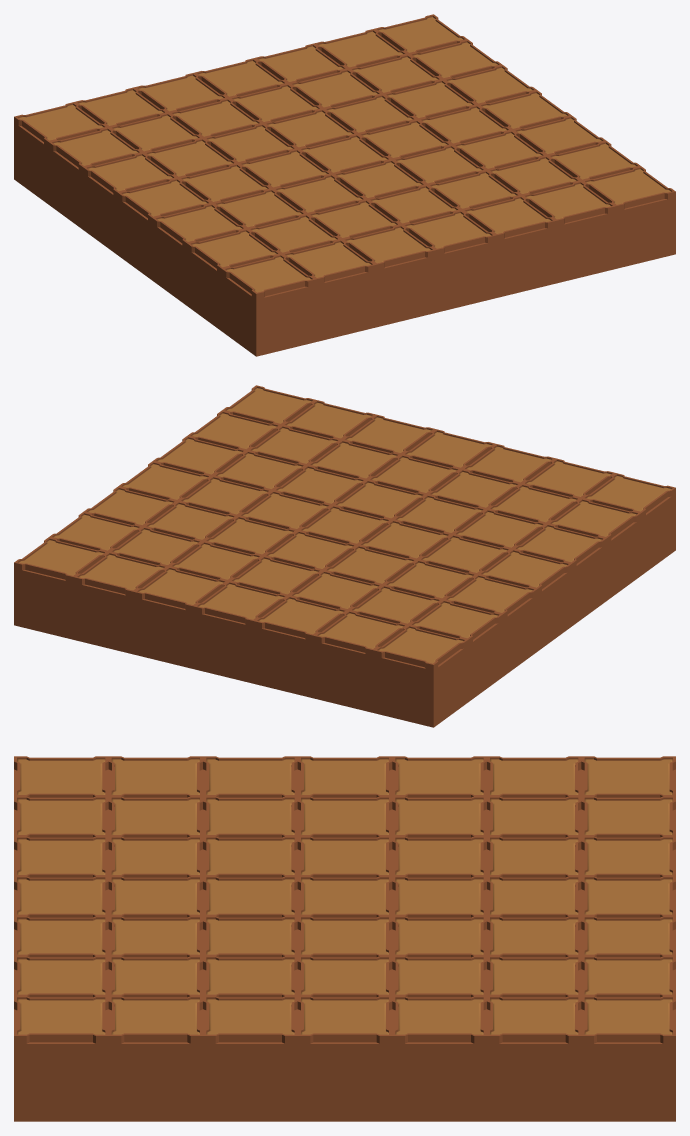
The model's file is board.fbx.
3 renders of one model, top to bottom at view 1: azimuth 30°, elevation 25°; view 2: azimuth 150°, elevation 25°; view 3: azimuth 270°, elevation 25°, orthographic. The views are drawn at different scales.
Parts seen in each view (by area): view 1: Cube.019; view 2: Cube.019; view 3: Cube.019.
Part boxes in pixels (x1,y1,x2,y2): Cube.019: (14,14,675,356); Cube.019: (14,385,675,727); Cube.019: (14,756,675,1121).
Bounding box in the file's own units: 1400 × 200 × 1400.
